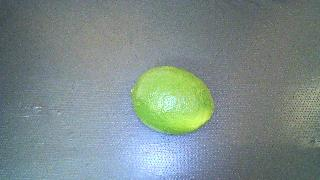EXPORTACION: (130, 66, 215, 134)
